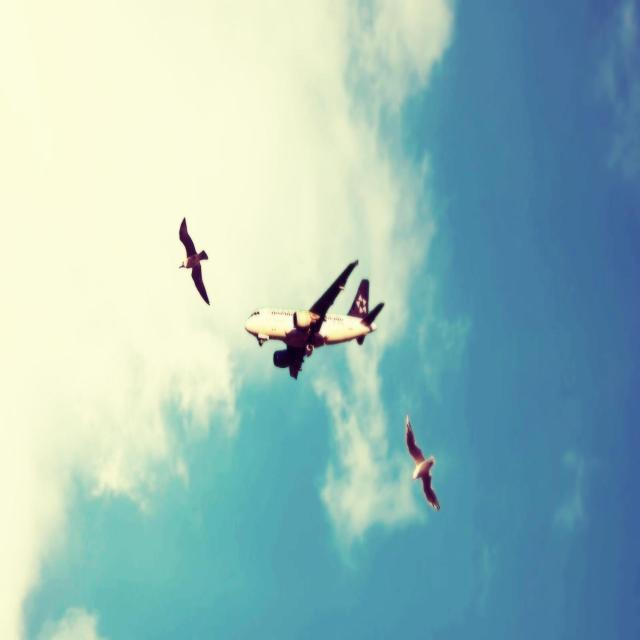airplane: (244, 258, 385, 380)
